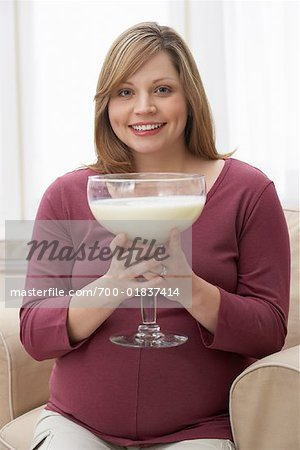glass of milk: (92, 175, 205, 356)
